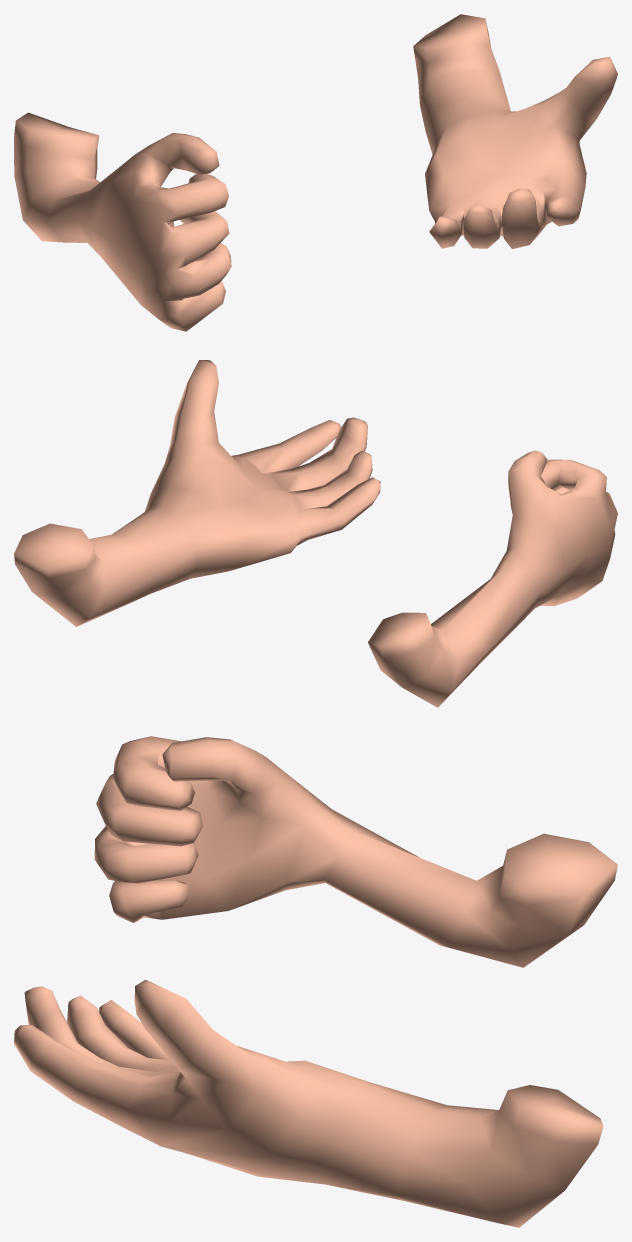
The model's file is AF_M_Arm_11.FBX.
3 views of the same model, one above another, from view 1: azimuth 30°, elevation 25°; view 2: azimuth 150°, elevation 25°; view 3: azimuth 270°, elevation 25° (orthographic). The views are drawn at different scales.
Visible parts, largest first — view 1: AF_M_Arm_11; view 2: AF_M_Arm_11; view 3: AF_M_Arm_11.
Boxes of the visible parts, <box> form: AF_M_Arm_11: <box>14,14,617,331</box>; AF_M_Arm_11: <box>14,360,617,707</box>; AF_M_Arm_11: <box>14,736,617,1227</box>.
Size of the model in its own units: 500 by 184 by 406.
1 material, 1 textured.
